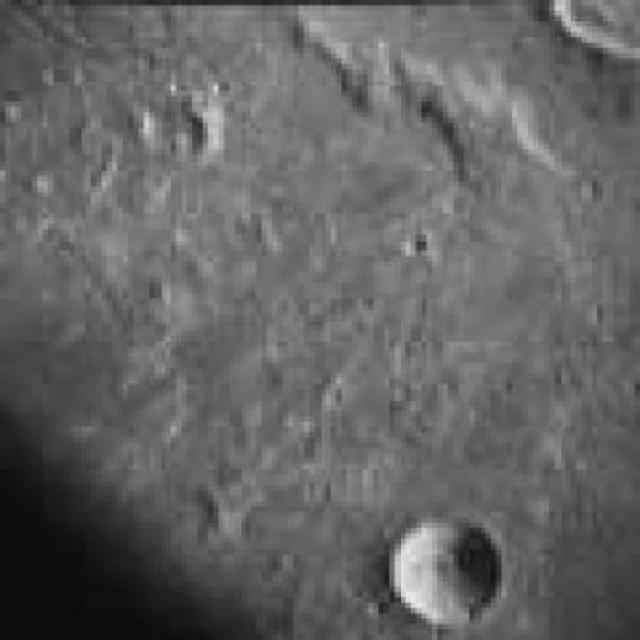crater: (392, 518, 498, 627)
